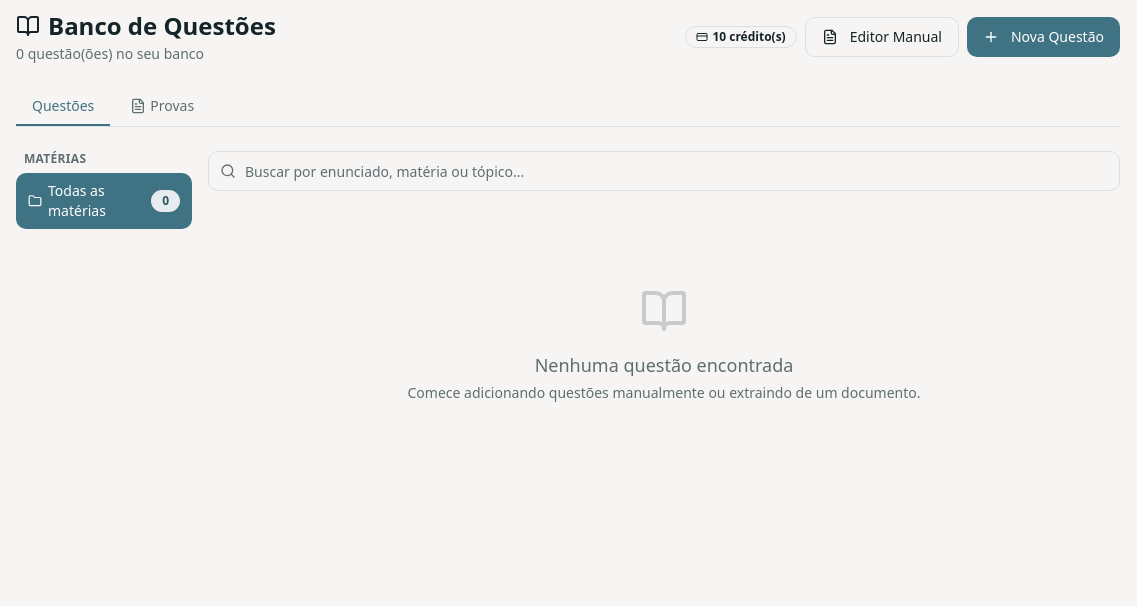
Scenario: QuestionBankPage › Provas tab shows file upload dropzone
Click the tab "Provas" at coordinates (162, 107), box [114,88,210,126]
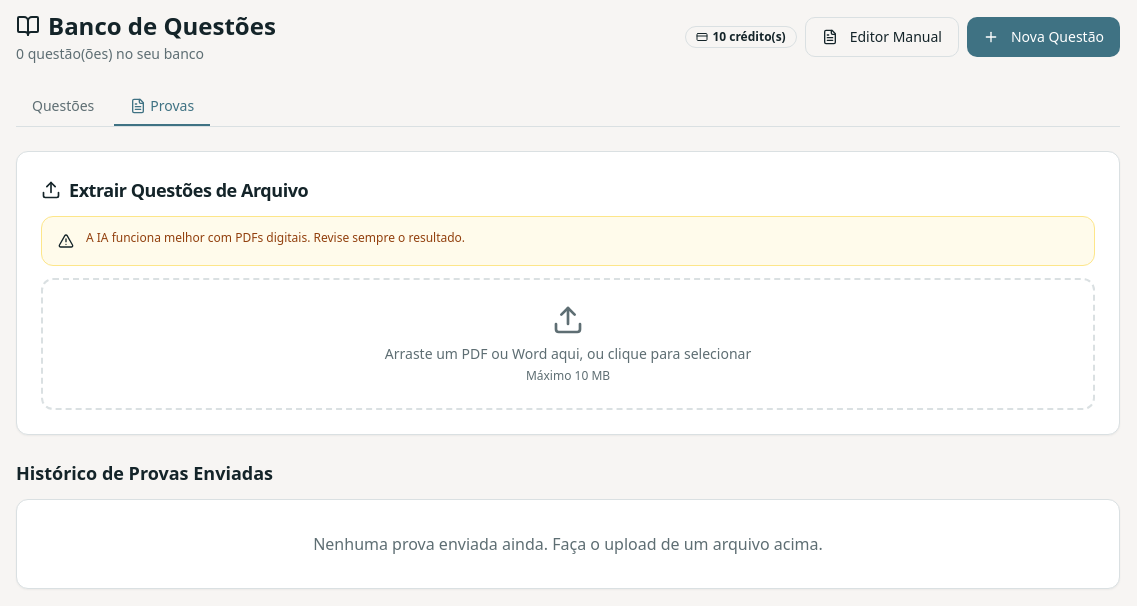
Now the text "Arraste um PDF ou Word aqui, ou clique para selecionar" is shown, box [385,344,751,363]
